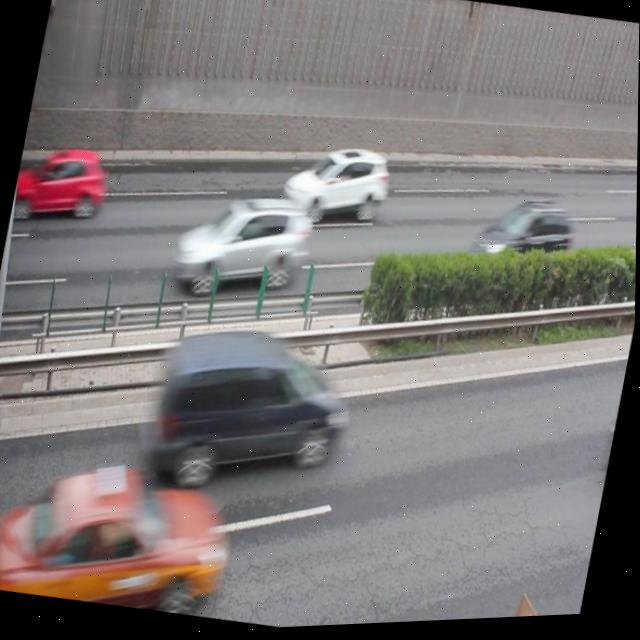car: (5, 445, 240, 627), (144, 313, 355, 504), (170, 182, 314, 311), (278, 136, 393, 236), (469, 195, 577, 288), (26, 140, 111, 226)
